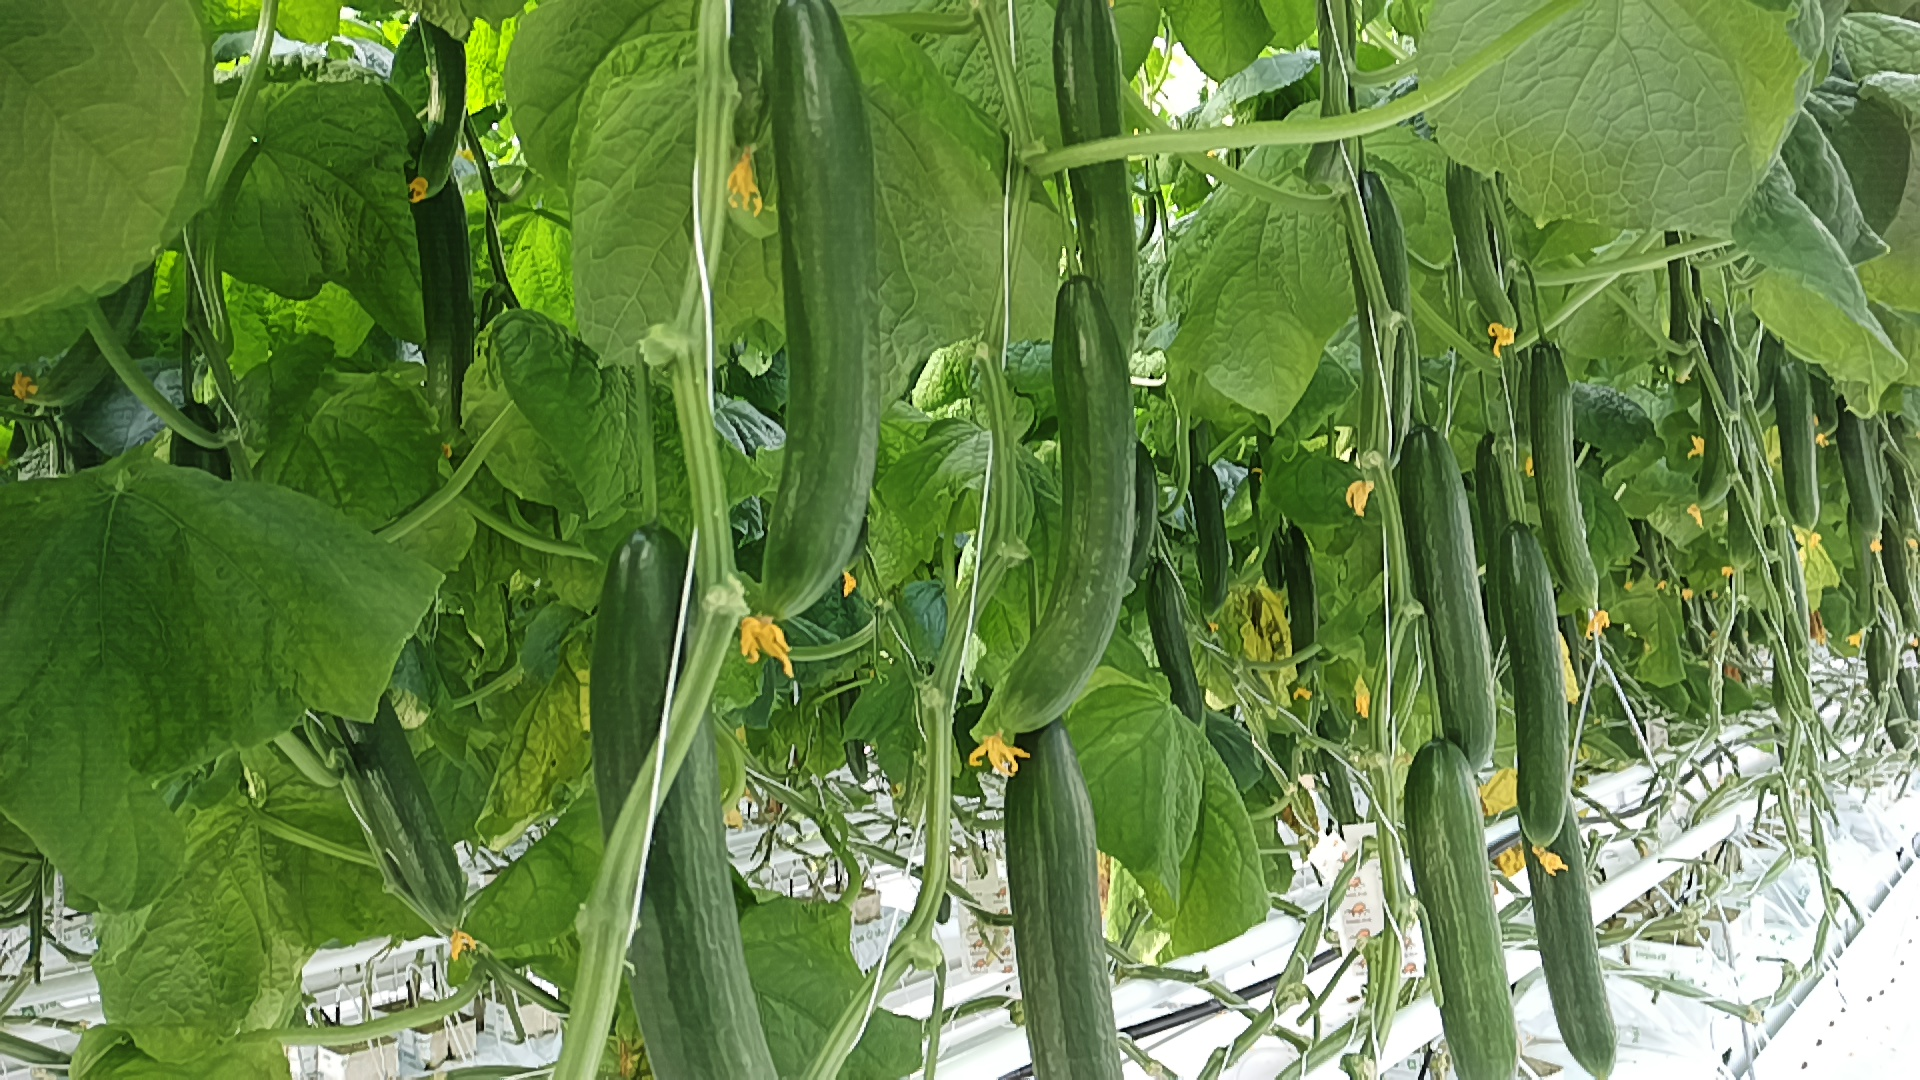gurka: (746, 4, 887, 637), (968, 276, 1138, 742), (1393, 715, 1532, 1080), (1389, 418, 1507, 787), (1491, 509, 1578, 851), (1524, 328, 1622, 618), (1764, 353, 1841, 537)
